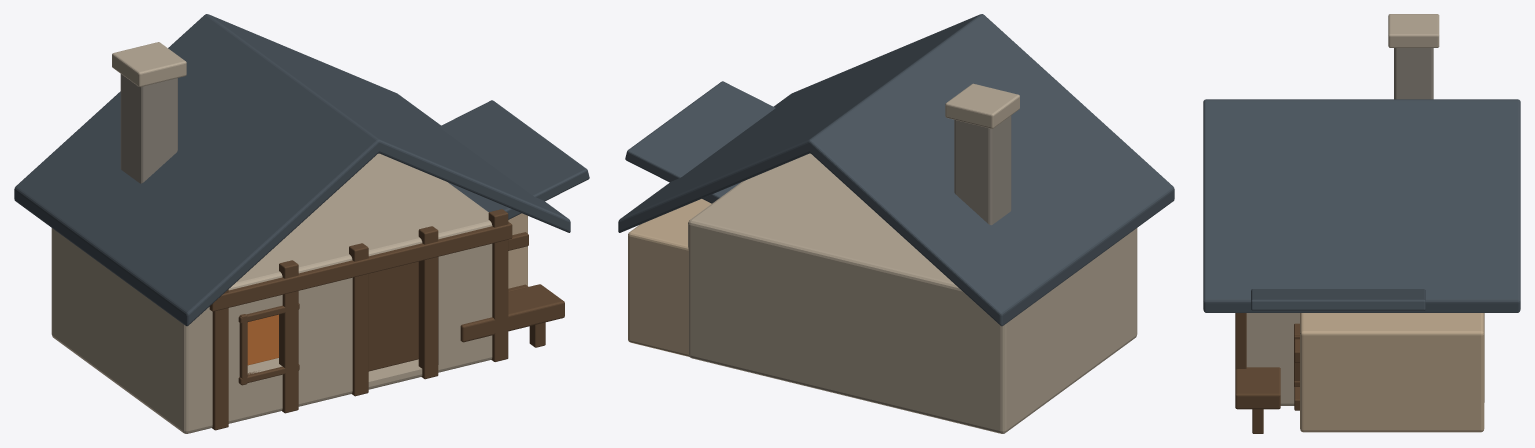
Rendered from Valoria_Workshop_v1.glb.
3 views of the same model, side by side, from view 1: azimuth 30°, elevation 25°; view 2: azimuth 150°, elevation 25°; view 3: azimuth 270°, elevation 25° (orthographic). The views are drawn at different scales.
Visible parts, largest first — view 1: workshop main roof, workshop main hall, lean-to roof, workshop lintel, forge chimney, door leaf.002, workbench, workshop frame.003, forge chimney cap, workshop frame.002, workshop frame.004, workshop frame.001 (+4 smaller); view 2: workshop main hall, workshop main roof, workshop timber annex, lean-to roof, forge chimney, forge chimney cap; view 3: workshop main roof, workshop timber annex, lean-to roof, workshop main hall, forge chimney, workbench, forge chimney cap, workshop frame.004.
Part boxes in pixels (bbox=[...]): workshop main roof: bbox=[14, 14, 570, 326]; workshop main hall: bbox=[51, 153, 492, 433]; lean-to roof: bbox=[439, 100, 589, 219]; workshop lintel: bbox=[209, 222, 512, 311]; forge chimney: bbox=[120, 74, 177, 183]; door leaf.002: bbox=[368, 261, 418, 371]; workbench: bbox=[460, 284, 564, 342]; workshop frame.003: bbox=[418, 226, 438, 379]; forge chimney cap: bbox=[112, 42, 186, 87]; workshop frame.002: bbox=[349, 243, 368, 396]; workshop frame.004: bbox=[488, 209, 508, 361]; workshop frame.001: bbox=[279, 260, 298, 413]; workshop main hall: bbox=[688, 153, 1137, 433]; workshop main roof: bbox=[618, 14, 1174, 326]; workshop timber annex: bbox=[628, 199, 711, 356]; lean-to roof: bbox=[625, 81, 775, 203]; forge chimney: bbox=[954, 115, 1011, 225]; forge chimney cap: bbox=[945, 83, 1019, 128]; workshop main roof: bbox=[1203, 99, 1520, 312]; workshop timber annex: bbox=[1300, 313, 1484, 432]; lean-to roof: bbox=[1251, 289, 1425, 310]; workshop main hall: bbox=[1246, 313, 1484, 405]; forge chimney: bbox=[1394, 48, 1433, 99]; workbench: bbox=[1235, 367, 1280, 409]; forge chimney cap: bbox=[1388, 14, 1439, 47]; workshop frame.004: bbox=[1235, 313, 1246, 407].
Bounding box in the file's own units: 4.79 × 3.19 × 3.36.
